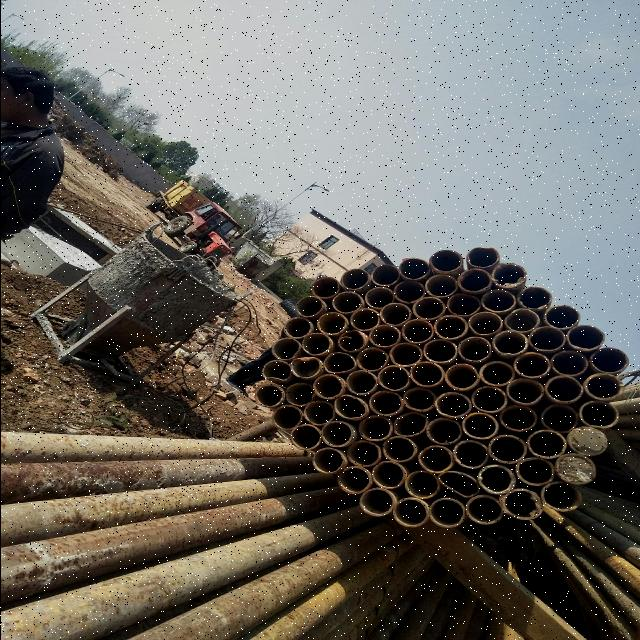pipe: (426, 496, 466, 532), (501, 488, 543, 522), (511, 458, 556, 488), (486, 434, 528, 466), (542, 480, 582, 512), (356, 486, 396, 518), (464, 496, 504, 528), (391, 497, 431, 529), (504, 376, 546, 406), (438, 468, 480, 498), (566, 427, 610, 455), (544, 374, 584, 404), (540, 403, 580, 433), (526, 429, 566, 459), (415, 444, 455, 474), (476, 464, 514, 495), (566, 324, 608, 352), (578, 400, 620, 428), (557, 453, 597, 482), (550, 348, 588, 378), (335, 466, 373, 496), (502, 305, 542, 333), (492, 328, 530, 357), (424, 419, 466, 445), (459, 412, 499, 439), (452, 439, 488, 469), (470, 386, 508, 414), (309, 447, 347, 475), (344, 440, 382, 468), (457, 334, 492, 364), (434, 390, 469, 420), (588, 347, 628, 373), (381, 434, 418, 462), (457, 267, 492, 296), (423, 271, 459, 299), (518, 284, 554, 312), (496, 406, 538, 430), (372, 460, 408, 488), (583, 374, 623, 399), (544, 303, 582, 329), (528, 326, 566, 352), (514, 352, 552, 378), (354, 415, 392, 441), (392, 412, 430, 438), (388, 340, 423, 368), (445, 362, 481, 389), (494, 259, 526, 289), (377, 362, 409, 392), (410, 359, 442, 389), (392, 277, 426, 305), (482, 284, 516, 312), (270, 334, 304, 362), (404, 471, 438, 499), (367, 390, 403, 416), (429, 246, 462, 274), (433, 314, 468, 340), (354, 347, 389, 373), (479, 360, 514, 386), (332, 395, 367, 421), (314, 372, 346, 400), (344, 368, 376, 396), (399, 318, 433, 344), (298, 331, 332, 357), (321, 421, 355, 447), (445, 292, 481, 316), (339, 265, 372, 291), (466, 244, 500, 269), (468, 310, 502, 335), (402, 388, 437, 412), (271, 403, 301, 431), (290, 422, 320, 450), (364, 284, 396, 310), (330, 288, 362, 314), (253, 381, 285, 407), (300, 400, 332, 426), (348, 306, 381, 331), (410, 296, 444, 320), (378, 302, 412, 326), (258, 359, 292, 383), (398, 255, 431, 279), (423, 340, 459, 362), (366, 324, 400, 347), (322, 351, 357, 373), (316, 311, 346, 336), (312, 273, 339, 300), (371, 262, 399, 288), (284, 382, 312, 408), (336, 328, 366, 352), (278, 341, 308, 365), (296, 293, 324, 318), (282, 317, 314, 338)
